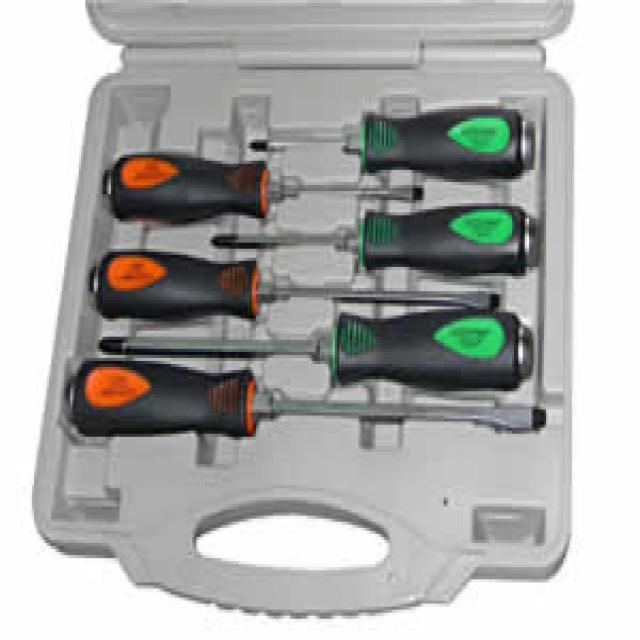screwdriver: (56, 351, 572, 462), (80, 310, 562, 388), (99, 127, 438, 230), (72, 250, 514, 322), (198, 200, 566, 269), (229, 92, 542, 165)
